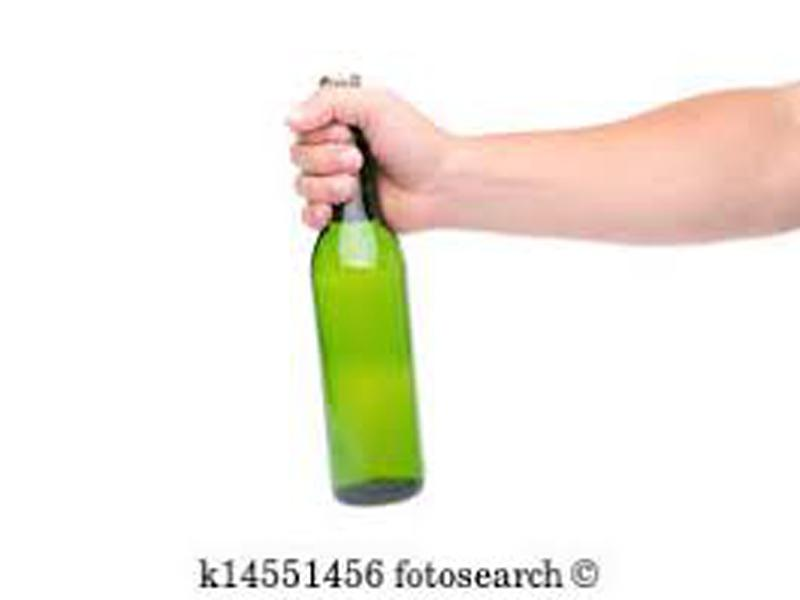Beer: (311, 76, 426, 505)
